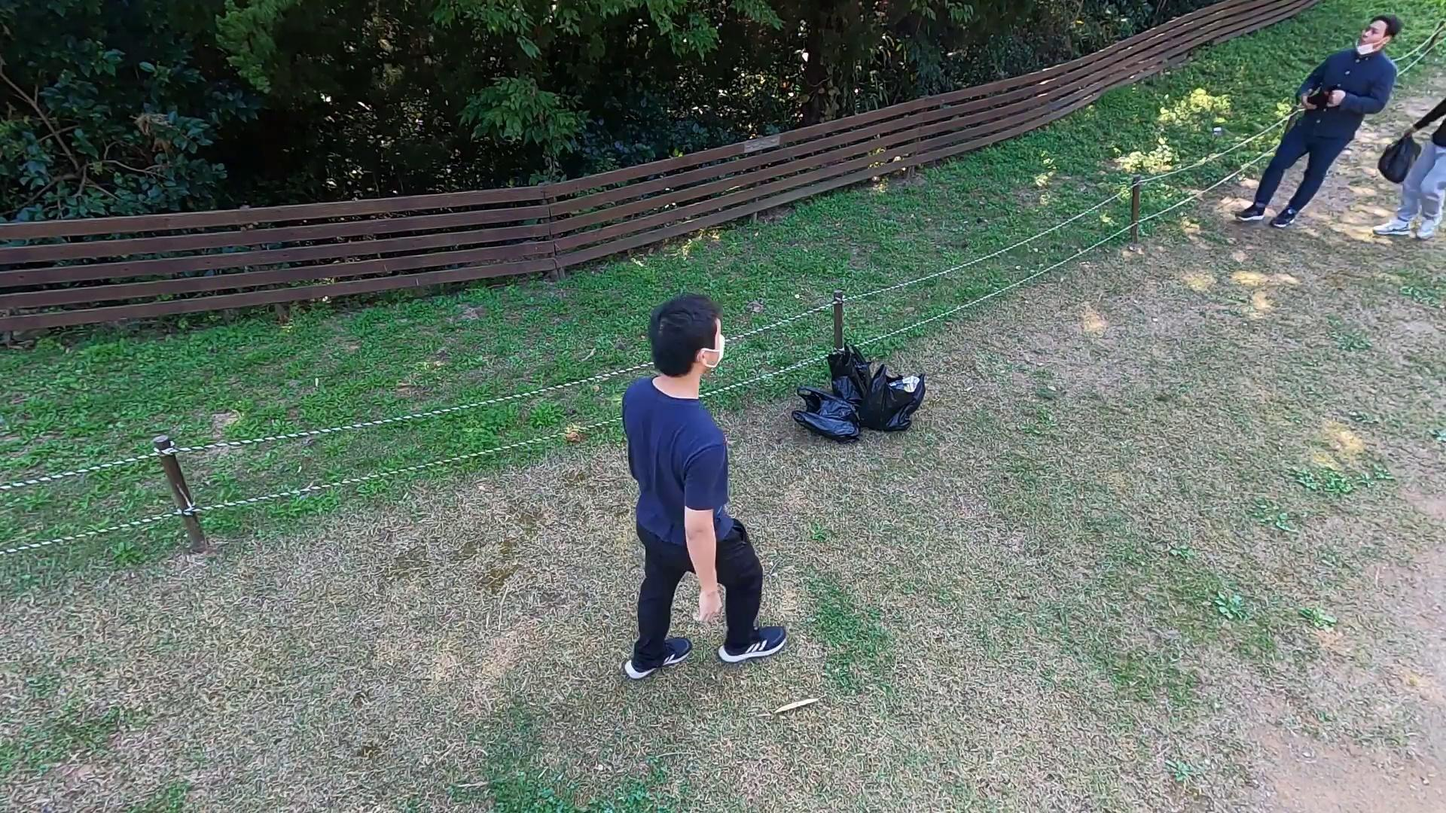person: (619, 299, 792, 684), (1235, 15, 1401, 234), (1380, 85, 1446, 254)
trash: (859, 367, 929, 439), (823, 344, 869, 424), (795, 386, 862, 439), (1382, 130, 1421, 186)
